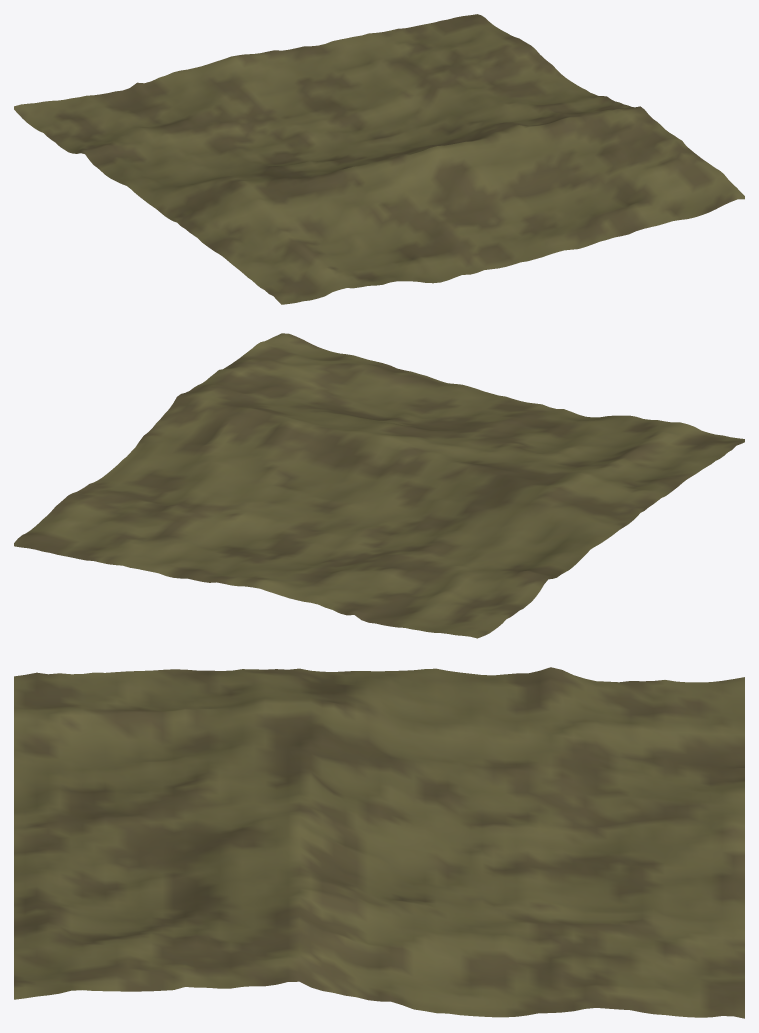
File: land_f_01_06.glb
3 views of the same model, one above another, from view 1: azimuth 30°, elevation 25°; view 2: azimuth 150°, elevation 25°; view 3: azimuth 270°, elevation 25° (orthographic). The views are drawn at different scales.
Visible parts, largest first — view 1: land_f_01_06; view 2: land_f_01_06; view 3: land_f_01_06.
Part boxes in pixels (x1,y1,x2,y2): land_f_01_06: (14,14,744,304); land_f_01_06: (14,333,744,638); land_f_01_06: (14,667,744,1018).
Bounding box in the file's own units: 3840 × 320 × 3840.
